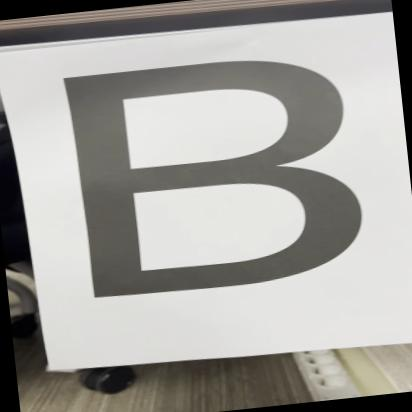seat: (37, 33, 398, 318)
